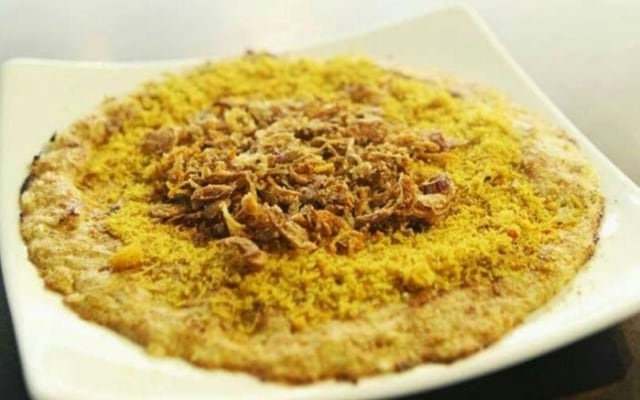kerak_telor: (20, 58, 608, 381)
